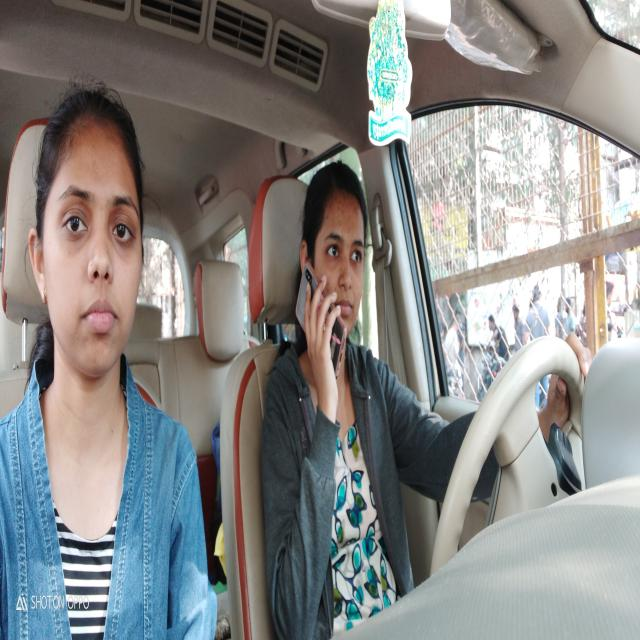mobile: (295, 262, 350, 391)
person: (28, 80, 148, 385), (301, 159, 370, 337)
